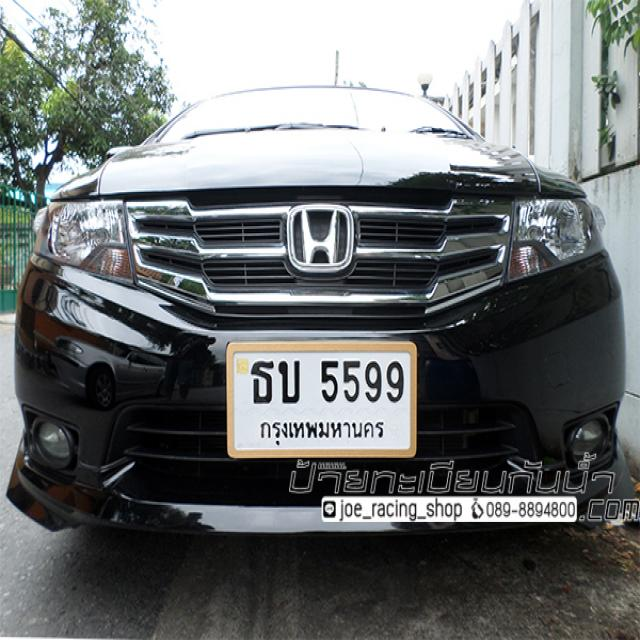license_plate: (226, 340, 418, 458)
